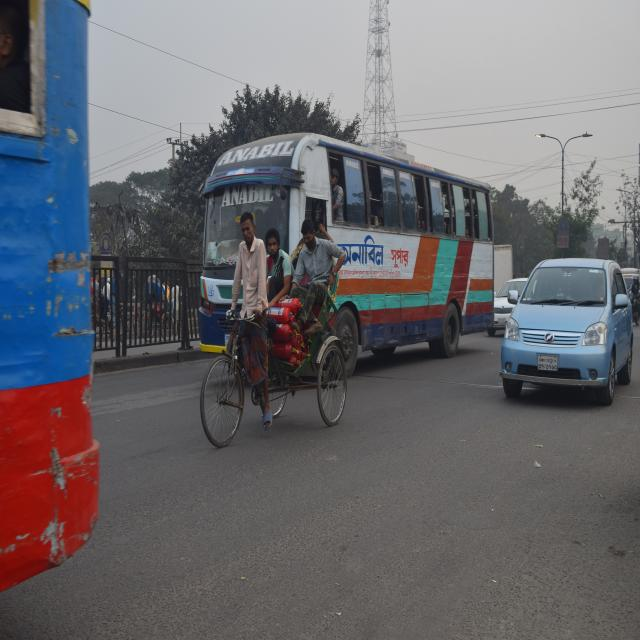bus: (0, 0, 153, 593), (195, 124, 496, 389)
car: (501, 250, 638, 410), (489, 267, 532, 345)
